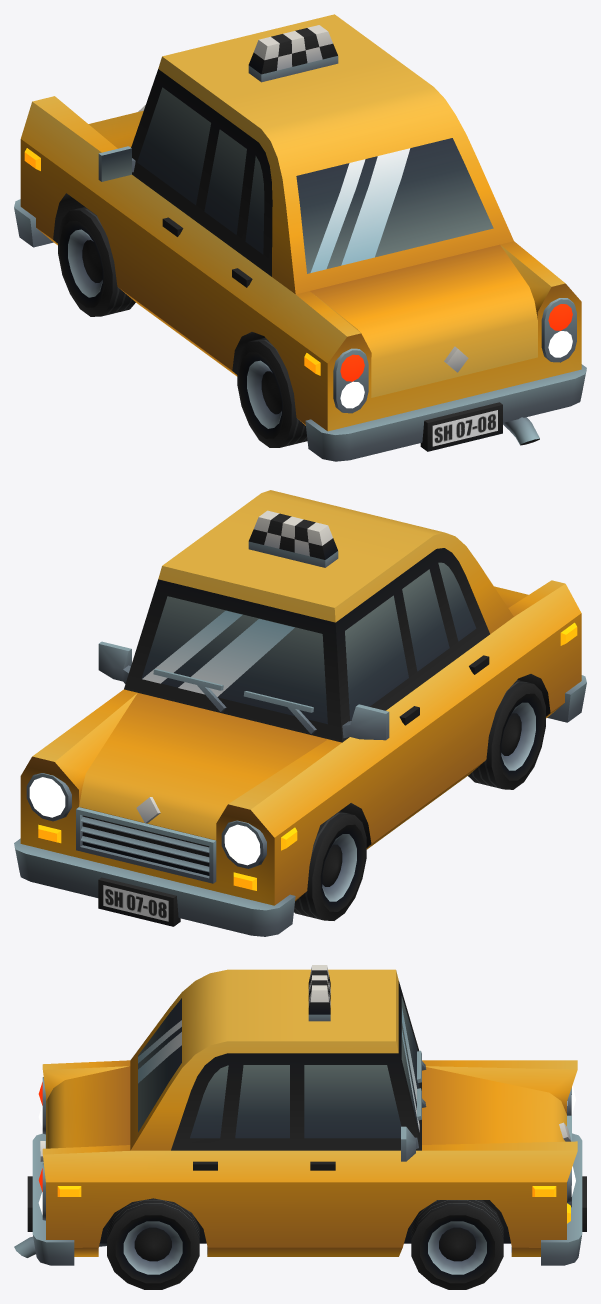
The model's file is taxi.glb.
The picture shows the model from 3 angles, top to bottom: view 1: azimuth 30°, elevation 25°; view 2: azimuth 150°, elevation 25°; view 3: azimuth 270°, elevation 25°; orthographic projection. The views are drawn at different scales.
Visible parts, largest first — view 1: taxi; view 2: taxi; view 3: taxi.
Boxes of the visible parts, x1,y1,x2,y2 form: taxi: [14, 14, 586, 461]; taxi: [14, 490, 586, 936]; taxi: [14, 965, 586, 1289].
Bounding box in the file's own units: 2.26 × 2.3 × 4.6.
Materials: 2 (2 with a texture image).
